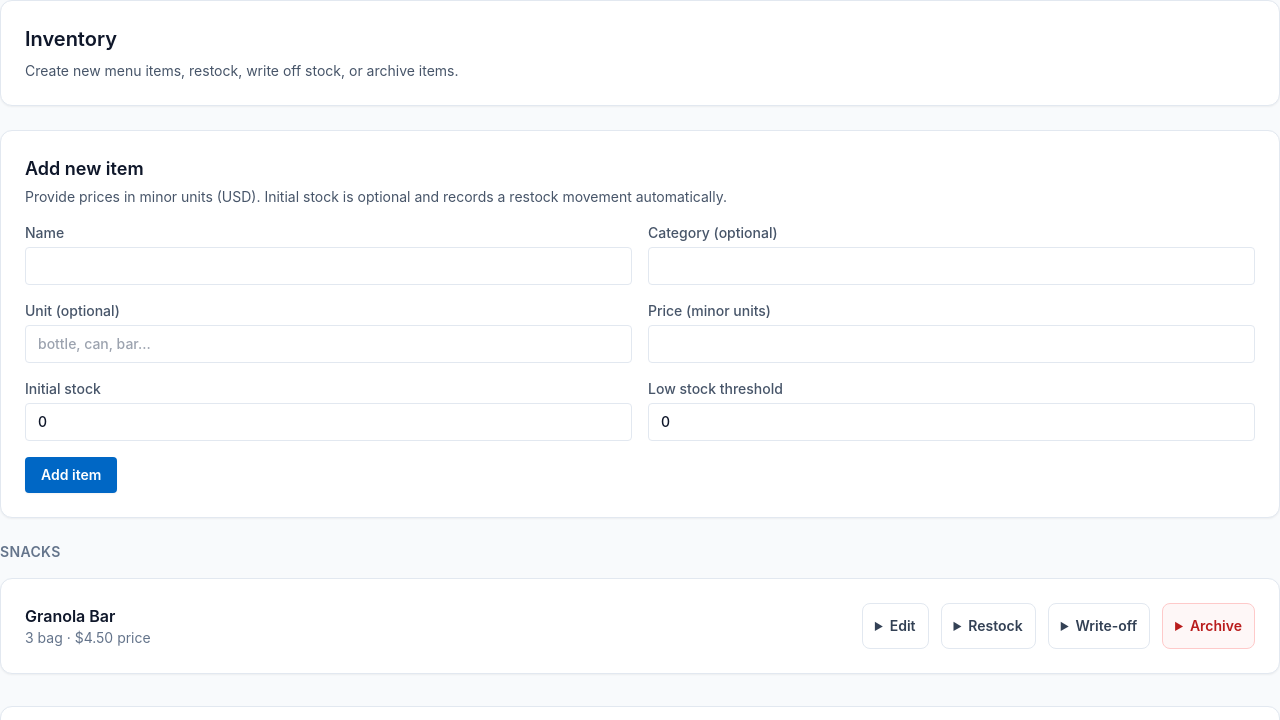
Test: InventoryManager archive/reactivate › disables archiving when current stock is not zero
This screenshot has width=1280, height=720.
Expected: the element "Granola Bar" is shown, [0,578,1279,674]
What coordinates should you click on to do the following:
click the heading "Archive"
I would click on:
 (1216, 626)
Its box is [1190,617,1242,634].
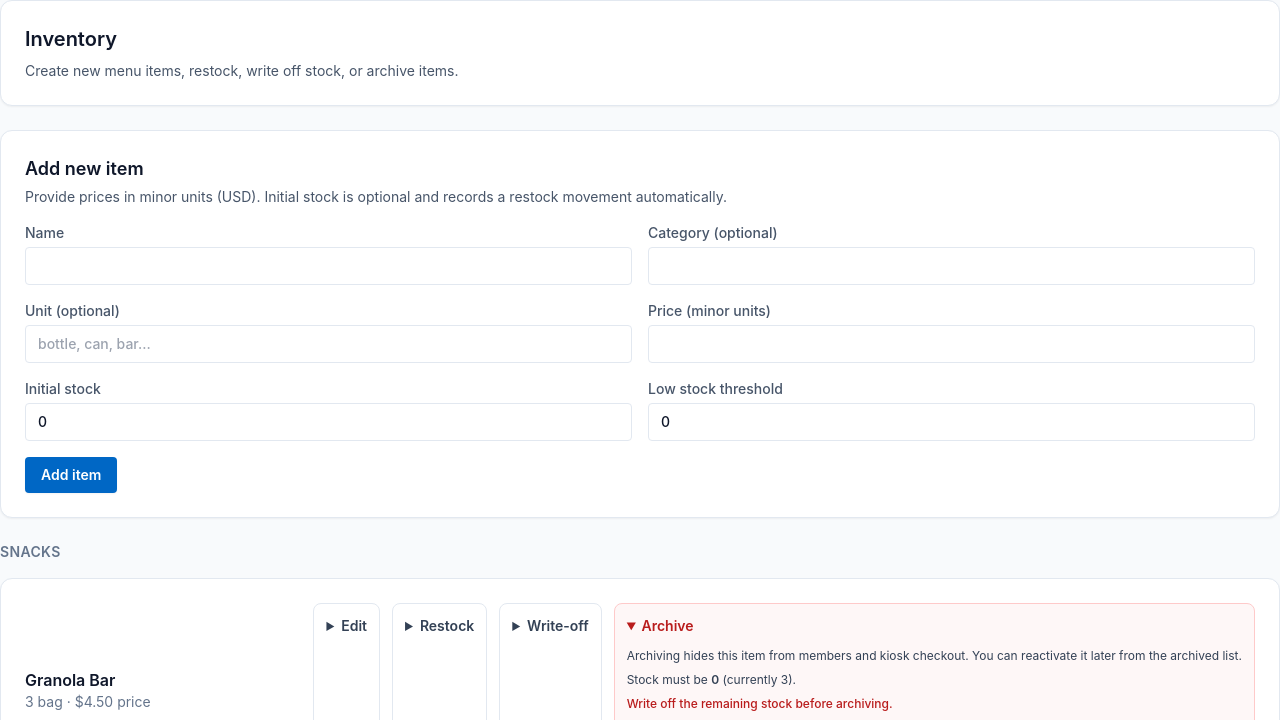
Expected: the text "Write off the remaining stock before archiving." is shown, [627,696,893,711]
